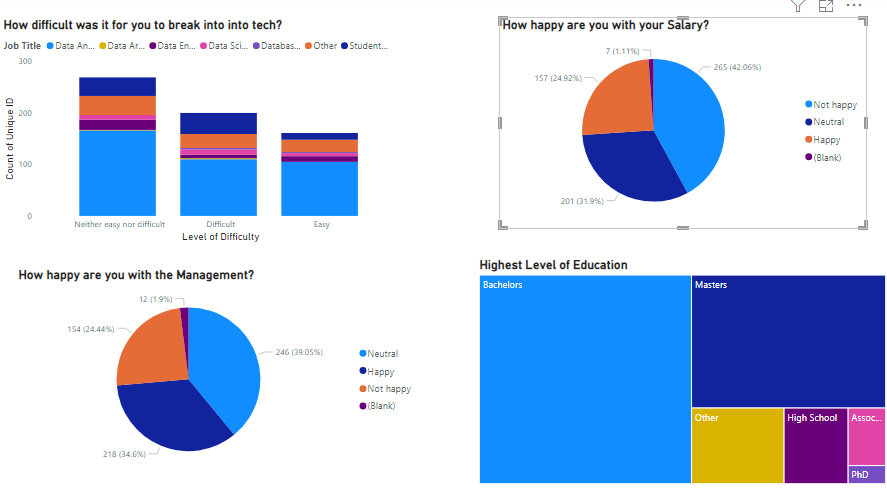

Layout of this report page (visuals, bound fields, positions):
{"tool":"powerbi","page":{"name":"Page 2","canvas":[1280,720],"ordinal":1},"visuals":[{"type":"pieChart","title":"How happy are you with your Salary?","fields":{"Category":["Data Professional Survey (2).Q6 - How Happy are you in your Current Position with the following? (Salary) (groups)"],"Y":["Divide(CountNonNull(Data Professional Survey (2).Unique ID), ScopedEval(CountNonNull(Data Professional Survey (2).Unique"]},"box":[718.6,28.8,529.9,305.3],"z":0},{"type":"pieChart","title":"How happy are you with the Management?  ","fields":{"Category":["Data Professional Survey (2).Q6 - How Happy are you in your Current Position with the following? (Management) (groups)"],"Y":["CountNonNull(Data Professional Survey (2).Unique ID)"]},"box":[21.6,388.8,584.6,302.4],"z":1},{"type":"columnChart","title":"How difficult was it for you to break into into tech?","fields":{"Category":["Data Professional Survey (2).Q7 - How difficult was it for you to break into Data? (groups)"],"Y":["CountNonNull(Data Professional Survey (2).Unique ID)"],"Series":["Data Professional Survey (2).Q1 - Which Title Best Fits your Current Role?.1"]},"box":[0,28.8,584.6,329.8],"z":2},{"type":"treemap","title":"Highest Level of Education","fields":{"Group":["Data Professional Survey (2).Q12 - Highest Level of Education"],"Values":["CountNonNull(Data Professional Survey (2).Unique ID)"]},"box":[685.4,374.4,594.7,331.2],"z":3}]}

Visuals, with their boxes in screenshot pixels (x1, y1, x2, y2), scaled from the page's 1280x720 canvas onto the 887x497 screenshot:
"How happy are you with your Salary?" pieChart: box(498, 20, 865, 231)
"How happy are you with the Management?  " pieChart: box(15, 268, 420, 477)
"How difficult was it for you to break into into tech?" columnChart: box(0, 20, 405, 248)
"Highest Level of Education" treemap: box(475, 258, 886, 487)
